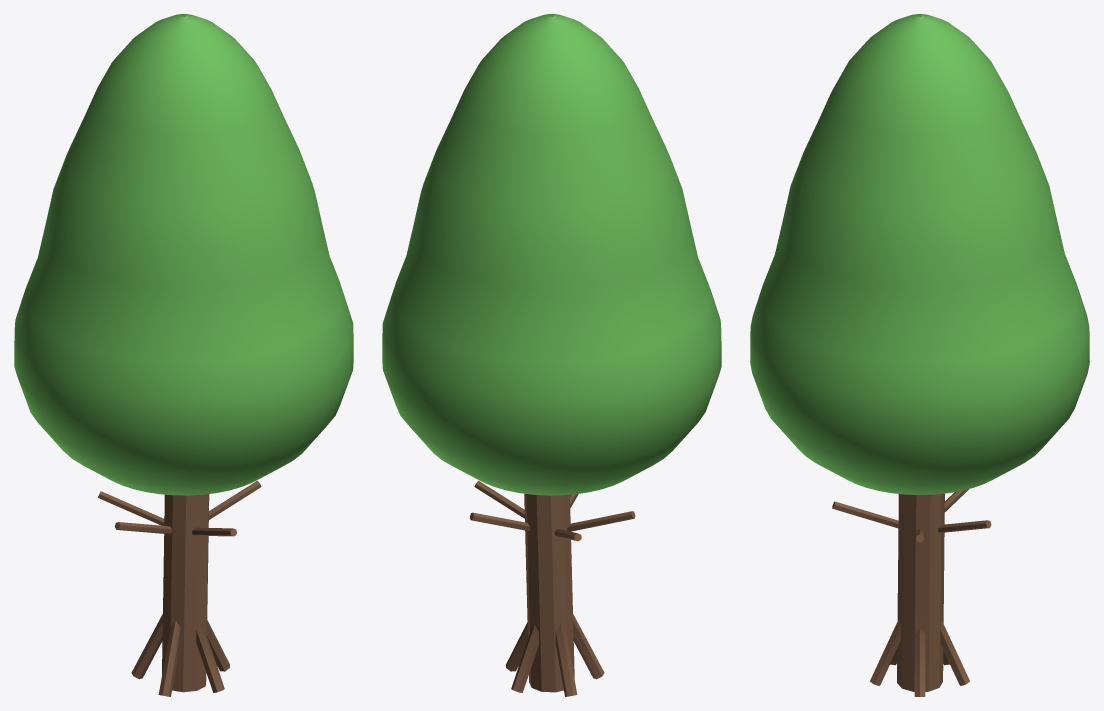
The model's file is pine.glb.
The picture shows the model from 3 angles, left to right: view 1: azimuth 30°, elevation 25°; view 2: azimuth 150°, elevation 25°; view 3: azimuth 270°, elevation 25°; orthographic projection.
Parts seen in each view (by area): view 1: rounded canopy, trunk; view 2: rounded canopy, trunk; view 3: rounded canopy, trunk.
Boxes of the visible parts, x1,y1,x2,y2 form: rounded canopy: [14, 14, 353, 495]; trunk: [98, 481, 261, 696]; rounded canopy: [382, 14, 721, 495]; trunk: [470, 481, 635, 696]; rounded canopy: [750, 14, 1089, 494]; trunk: [832, 489, 991, 696].
Bounding box in the file's own units: 1.06 × 2.29 × 1.06.
